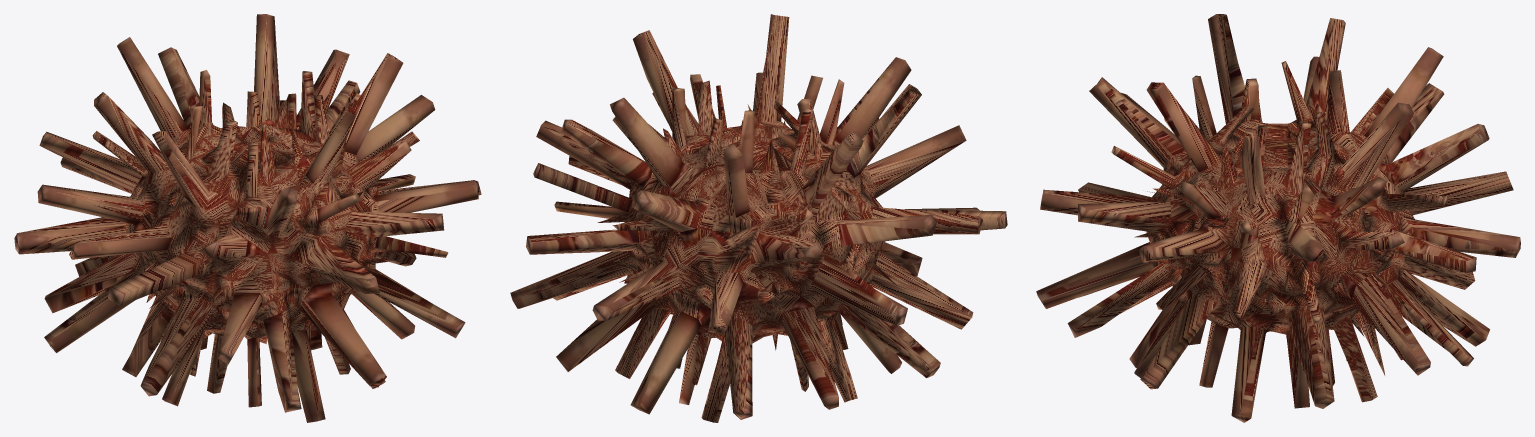
The model's file is zee-egel.glb.
3 renders of one model, left to right at view 1: azimuth 30°, elevation 25°; view 2: azimuth 150°, elevation 25°; view 3: azimuth 270°, elevation 25°, orthographic. The views are drawn at different scales.
Parts seen in each view (by area): view 1: tripo_node_90029ef8-dd56-4baa-956b-f9b823d4e5ec; view 2: tripo_node_90029ef8-dd56-4baa-956b-f9b823d4e5ec; view 3: tripo_node_90029ef8-dd56-4baa-956b-f9b823d4e5ec.
Boxes of the visible parts, x1=… form: tripo_node_90029ef8-dd56-4baa-956b-f9b823d4e5ec: x1=14, y1=14, x2=481, y2=422; tripo_node_90029ef8-dd56-4baa-956b-f9b823d4e5ec: x1=510, y1=14, x2=1007, y2=422; tripo_node_90029ef8-dd56-4baa-956b-f9b823d4e5ec: x1=1036, y1=14, x2=1520, y2=422.
Bounding box in the file's own units: 0.207 × 0.1491 × 0.2115.
Materials: 1 (1 with a texture image).
